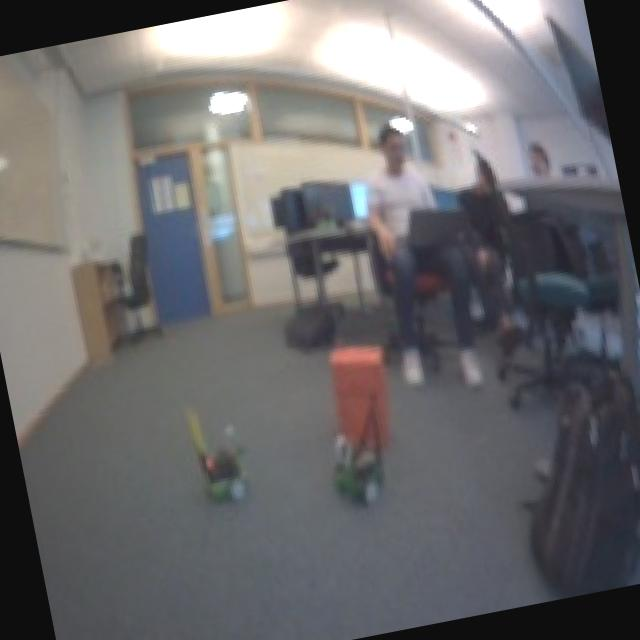robot: (320, 432, 392, 512), (188, 432, 260, 511)
target: (319, 334, 402, 456)
